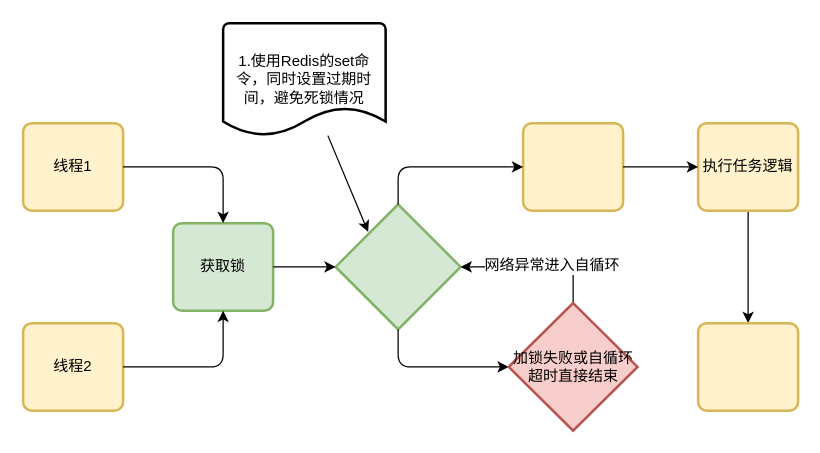
Some shapes in this 820 by 453 pixel diagram are drawn without their labels. The shapes that lost their labels are listed below. From the top down, each one's centre as x and y in pixels, then its label:
point (572, 166): 加锁成功
point (397, 266): Redis加锁
point (747, 366): 释放锁
